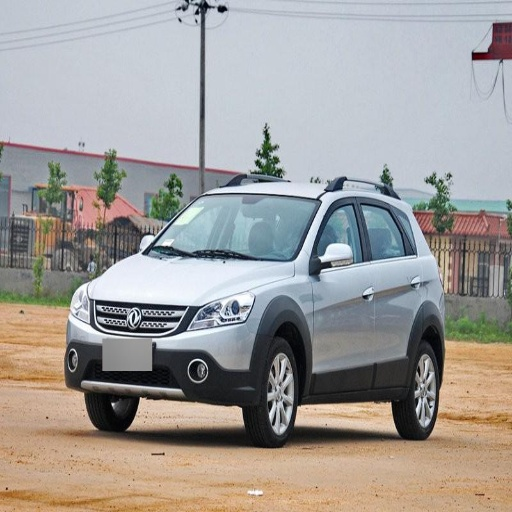front_bumper: (64, 299, 268, 406)
front_glass: (143, 194, 319, 261)
front_left_door: (311, 196, 376, 389)
